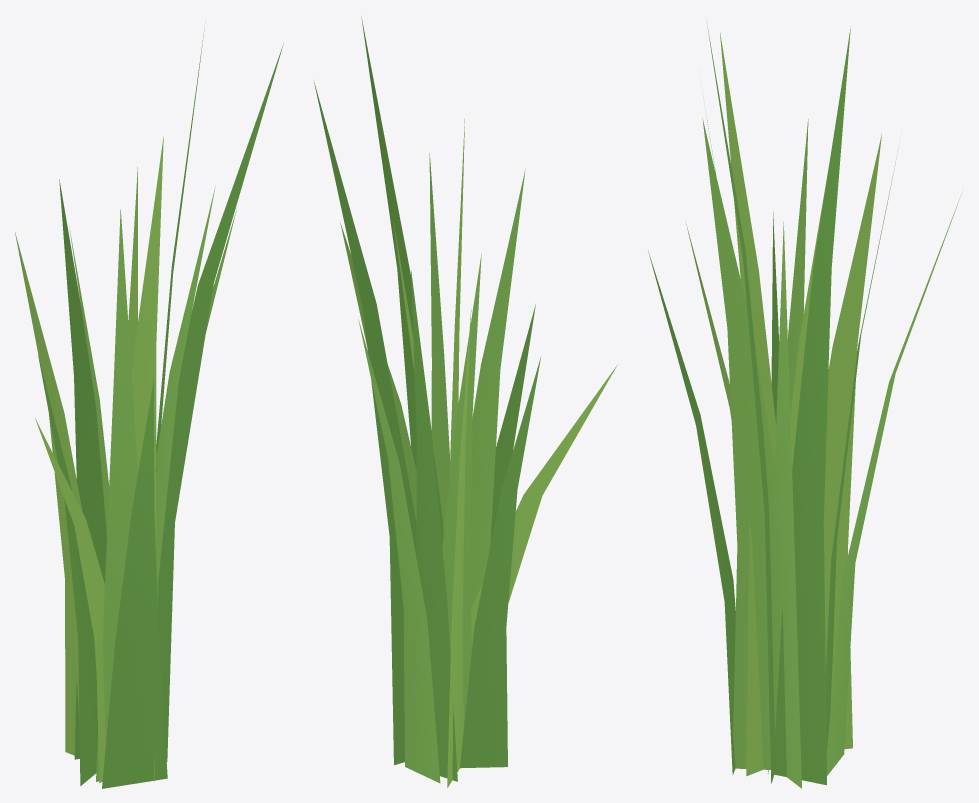
File: meadow_grass.glb
3 views of the same model, side by side, from view 1: azimuth 30°, elevation 25°; view 2: azimuth 150°, elevation 25°; view 3: azimuth 270°, elevation 25° (orthographic). The views are drawn at different scales.
Visible parts, largest first — view 1: body; view 2: body; view 3: body.
Boxes of the visible parts, <box> form: body: <box>15,23,283,788</box>; body: <box>313,16,617,787</box>; body: <box>648,21,962,788</box>.
Bounding box in the file's own units: 0.3318 × 0.8826 × 0.31.
